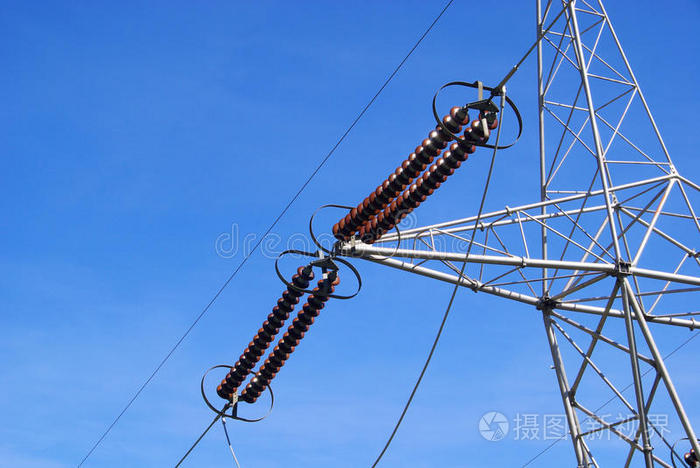insulator: (333, 104, 495, 241), (215, 267, 339, 402)
